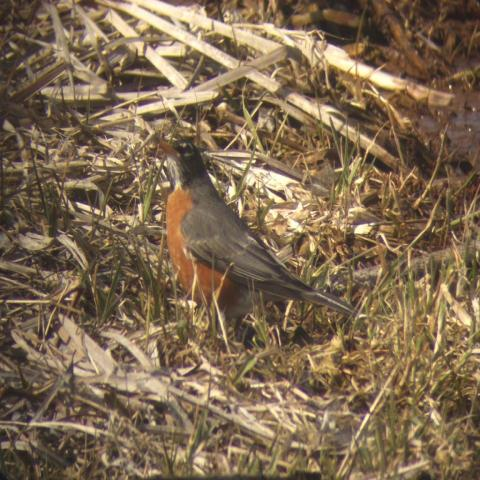bird: (154, 133, 355, 330)
